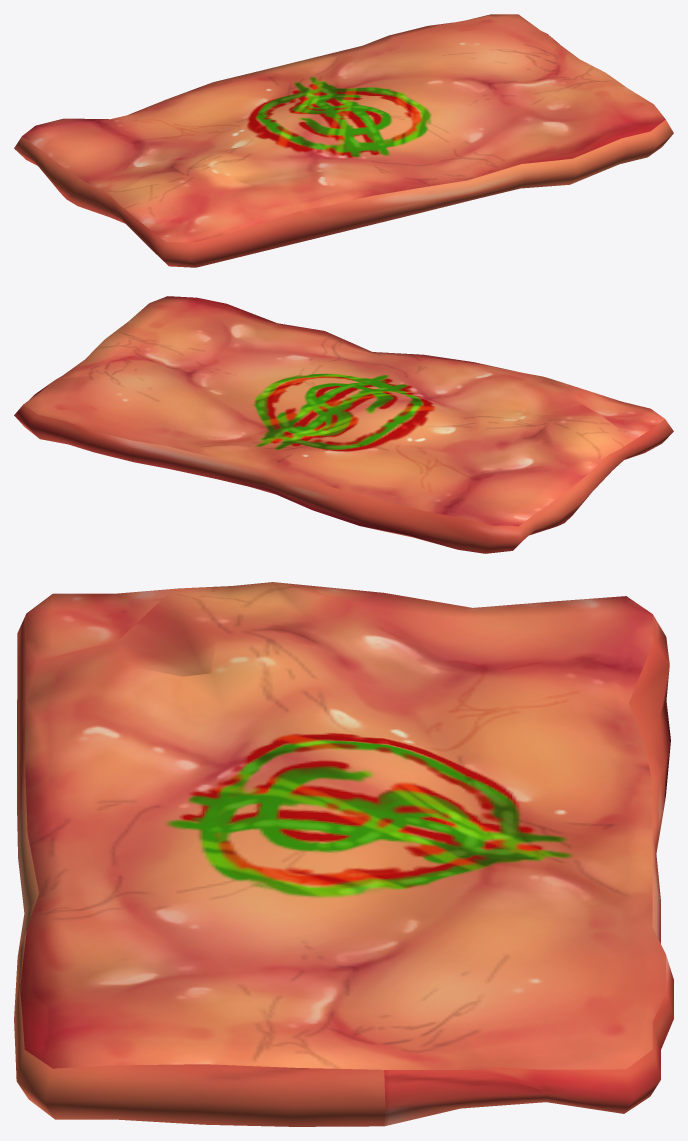
The model's file is BIO_CURRENCY.glb.
The picture shows the model from 3 angles, top to bottom: view 1: azimuth 30°, elevation 25°; view 2: azimuth 150°, elevation 25°; view 3: azimuth 270°, elevation 25°; orthographic projection. The views are drawn at different scales.
Parts seen in each view (by area): view 1: BIO_CURRENCY_PROP; view 2: BIO_CURRENCY_PROP; view 3: BIO_CURRENCY_PROP.
Part boxes in pixels (bbox=[...]): BIO_CURRENCY_PROP: bbox=[14, 14, 673, 267]; BIO_CURRENCY_PROP: bbox=[14, 296, 673, 553]; BIO_CURRENCY_PROP: bbox=[14, 582, 673, 1126].
Bounding box in the file's own units: 0.5737 × 0.0573 × 0.3231.
1 material, 1 textured.
